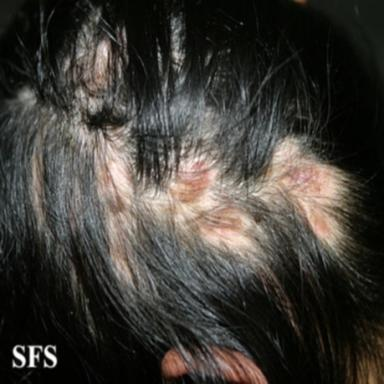Lupus-Erythematosus-Chronicus-Discoides: (95, 126, 261, 282), (255, 139, 347, 250)
